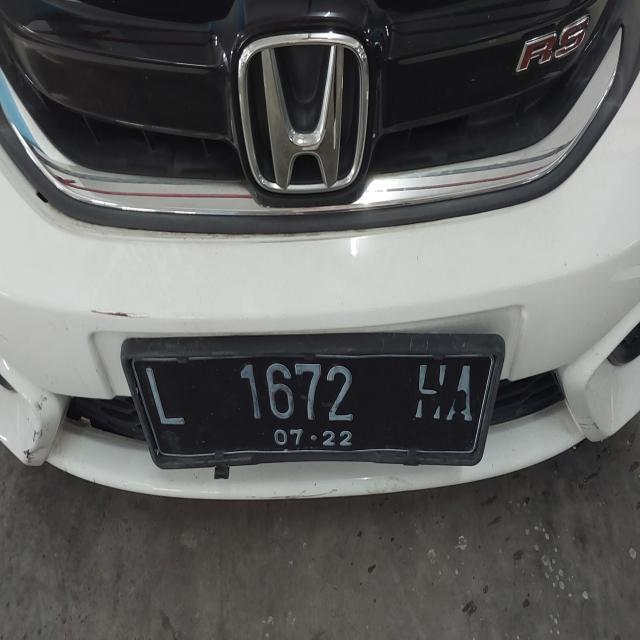1: (234, 358, 266, 446)
2: (324, 354, 358, 432)
6: (260, 349, 298, 424)
7: (291, 350, 325, 430)
A: (447, 340, 479, 441)
H: (411, 340, 453, 438)
L: (138, 360, 194, 445)
